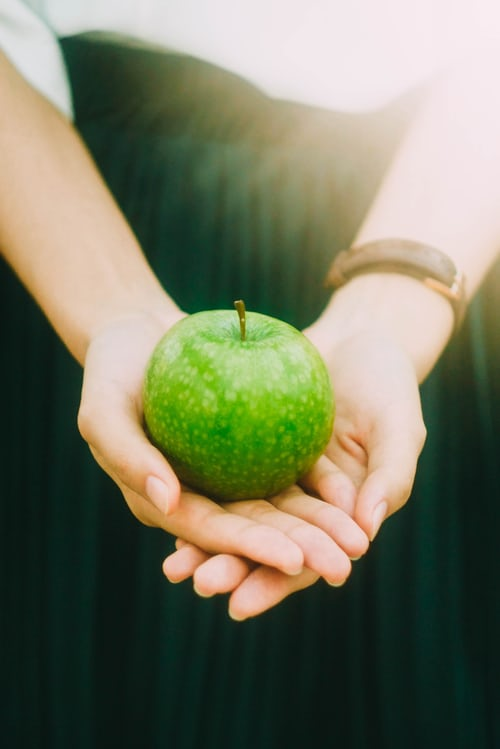apple: (141, 296, 330, 508)
